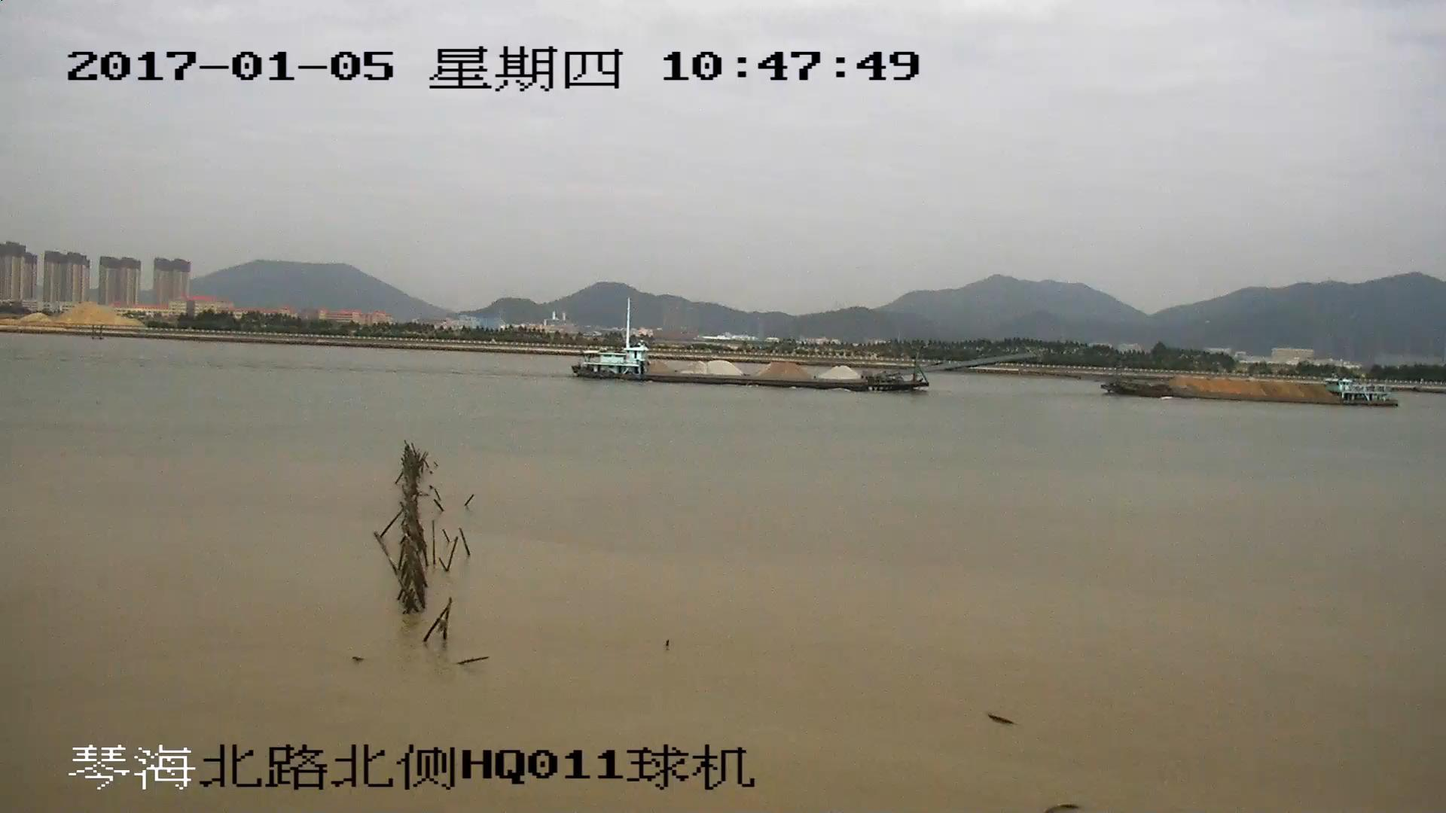ore carrier: (573, 297, 1030, 394), (1106, 367, 1393, 406)
